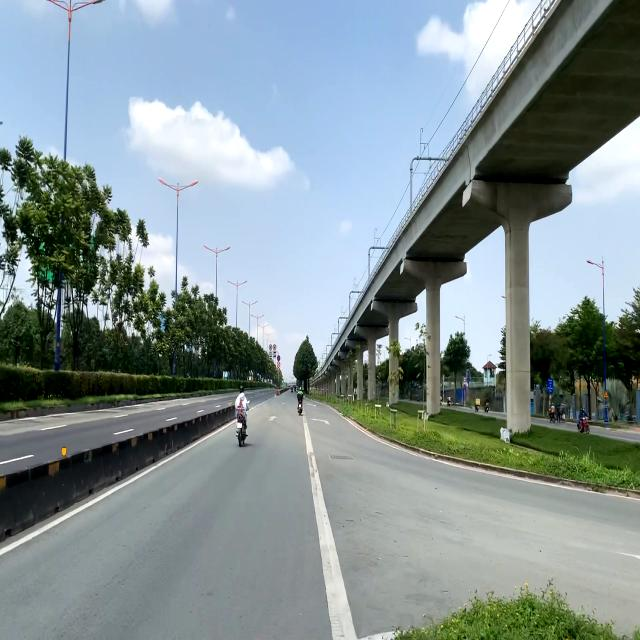P.127: (273, 344, 276, 351), (269, 344, 272, 351)
P.130: (277, 355, 280, 361)
